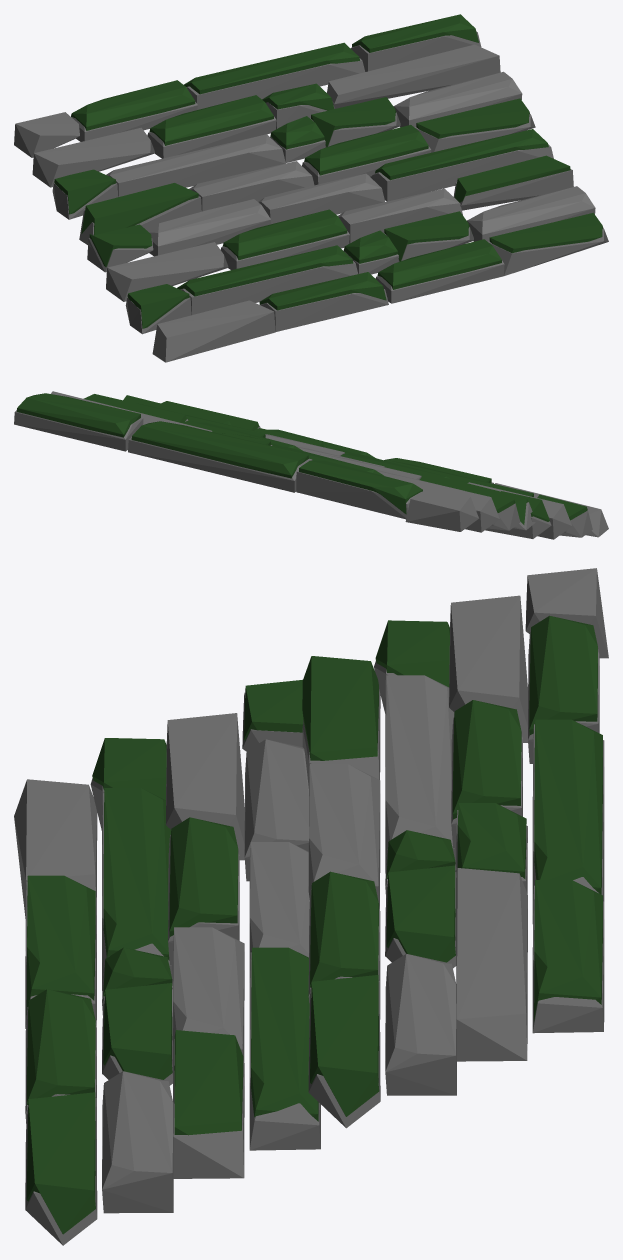
Rendered from SM_stairs_jungle_01.fbx.
3 renders of one model, top to bottom at view 1: azimuth 30°, elevation 25°; view 2: azimuth 150°, elevation 25°; view 3: azimuth 270°, elevation 25°, orthographic. The views are drawn at different scales.
Visible parts, largest first — view 1: Object050; view 2: Object050; view 3: Object050.
Part boxes in pixels (<box>): Object050: <box>14,14,608,362</box>; Object050: <box>14,391,608,539</box>; Object050: <box>14,568,608,1245</box>.
Bounding box in the file's own units: 200 × 55.3 × 116.
